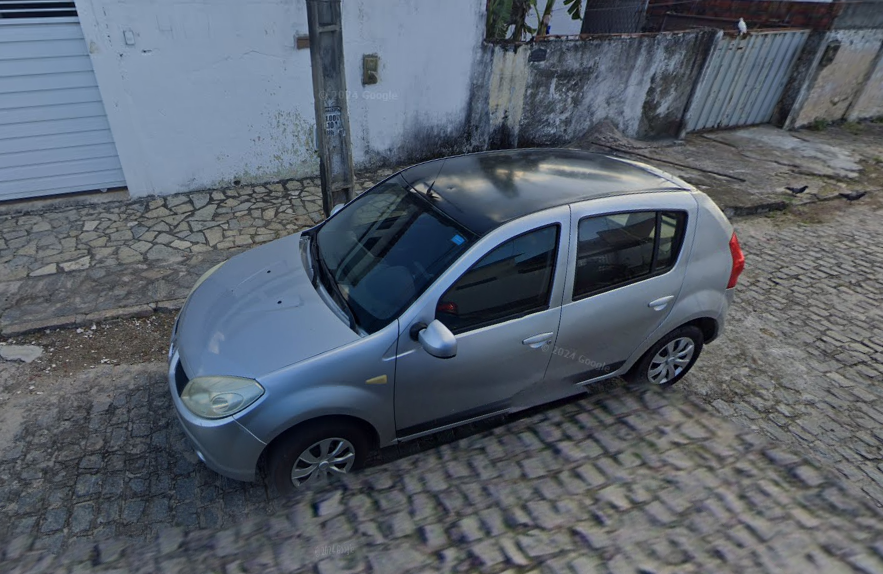car: (162, 142, 749, 507)
